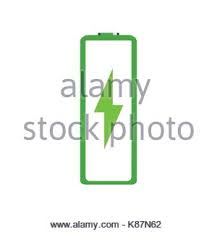charging sign: (69, 25, 149, 199)
